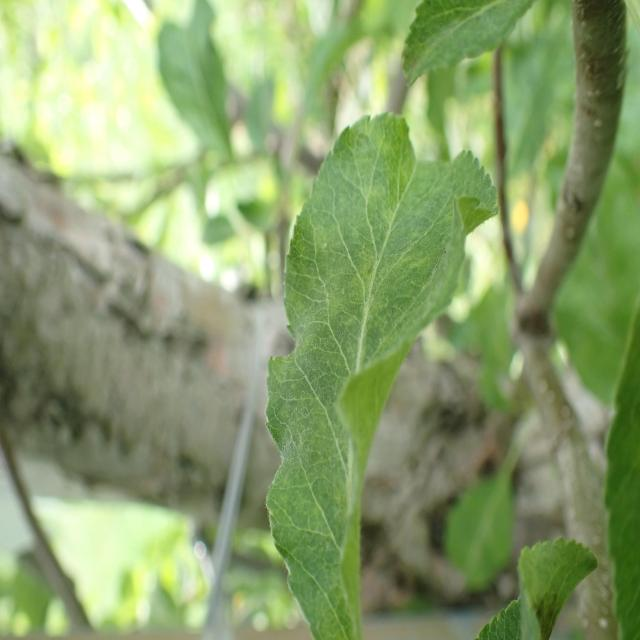scab: (286, 126, 446, 635)
